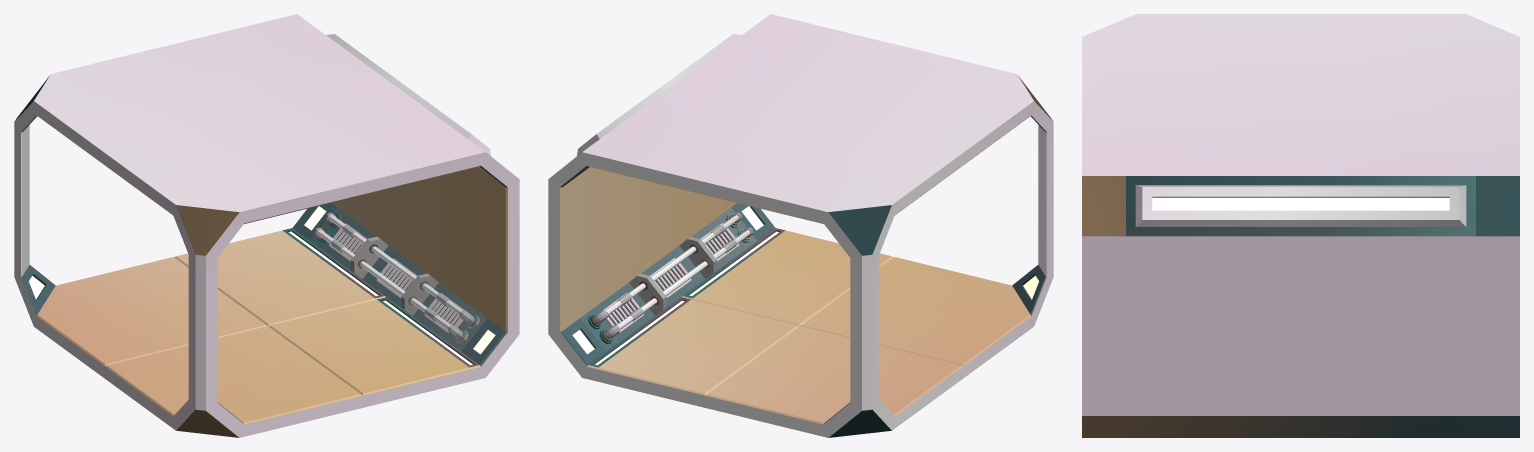
The model's file is C_3_branch.fbx.
The picture shows the model from 3 angles, left to right: view 1: azimuth 30°, elevation 25°; view 2: azimuth 150°, elevation 25°; view 3: azimuth 270°, elevation 25°; orthographic projection. The views are drawn at different scales.
Parts seen in each view (by area): view 1: C_3_branch; view 2: C_3_branch; view 3: C_3_branch.
Part boxes in pixels (bbox=[...]): C_3_branch: bbox=[14, 14, 519, 437]; C_3_branch: bbox=[548, 14, 1053, 437]; C_3_branch: bbox=[1082, 14, 1519, 437].
Size of the model in its own units: 490 by 330 by 500.
